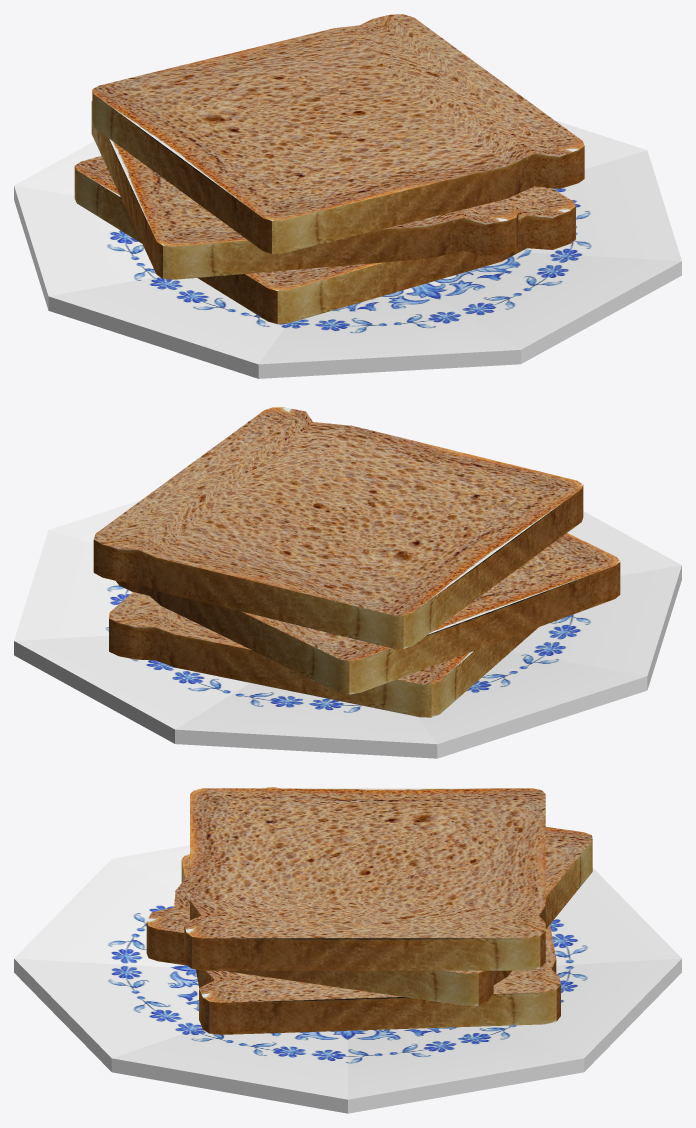
File: bread.glb
3 renders of one model, top to bottom at view 1: azimuth 30°, elevation 25°; view 2: azimuth 150°, elevation 25°; view 3: azimuth 270°, elevation 25°, orthographic. The views are drawn at different scales.
Parts seen in each view (by area): view 1: pCube52, pCylinder72, pCube52.001, pCube52.002; view 2: pCube52, pCylinder72, pCube52.001, pCube52.002; view 3: pCylinder72, pCube52, pCube52.002, pCube52.001.
Boxes of the visible parts, x1,y1,x2,y2 form: pCube52: [92, 14, 584, 253]; pCylinder72: [14, 120, 681, 378]; pCube52.001: [91, 100, 518, 279]; pCube52.002: [74, 155, 575, 324]; pCube52: [93, 407, 583, 648]; pCylinder72: [14, 500, 681, 758]; pCube52.001: [116, 533, 620, 694]; pCube52.002: [109, 592, 538, 717]; pCylinder72: [14, 845, 681, 1113]; pCube52: [184, 788, 545, 970]; pCube52.002: [181, 854, 560, 1034]; pCube52.001: [146, 787, 592, 1005].
Bounding box in the file's own units: 0.0418 × 0.0109 × 0.0418.
3 materials, 3 textured.
